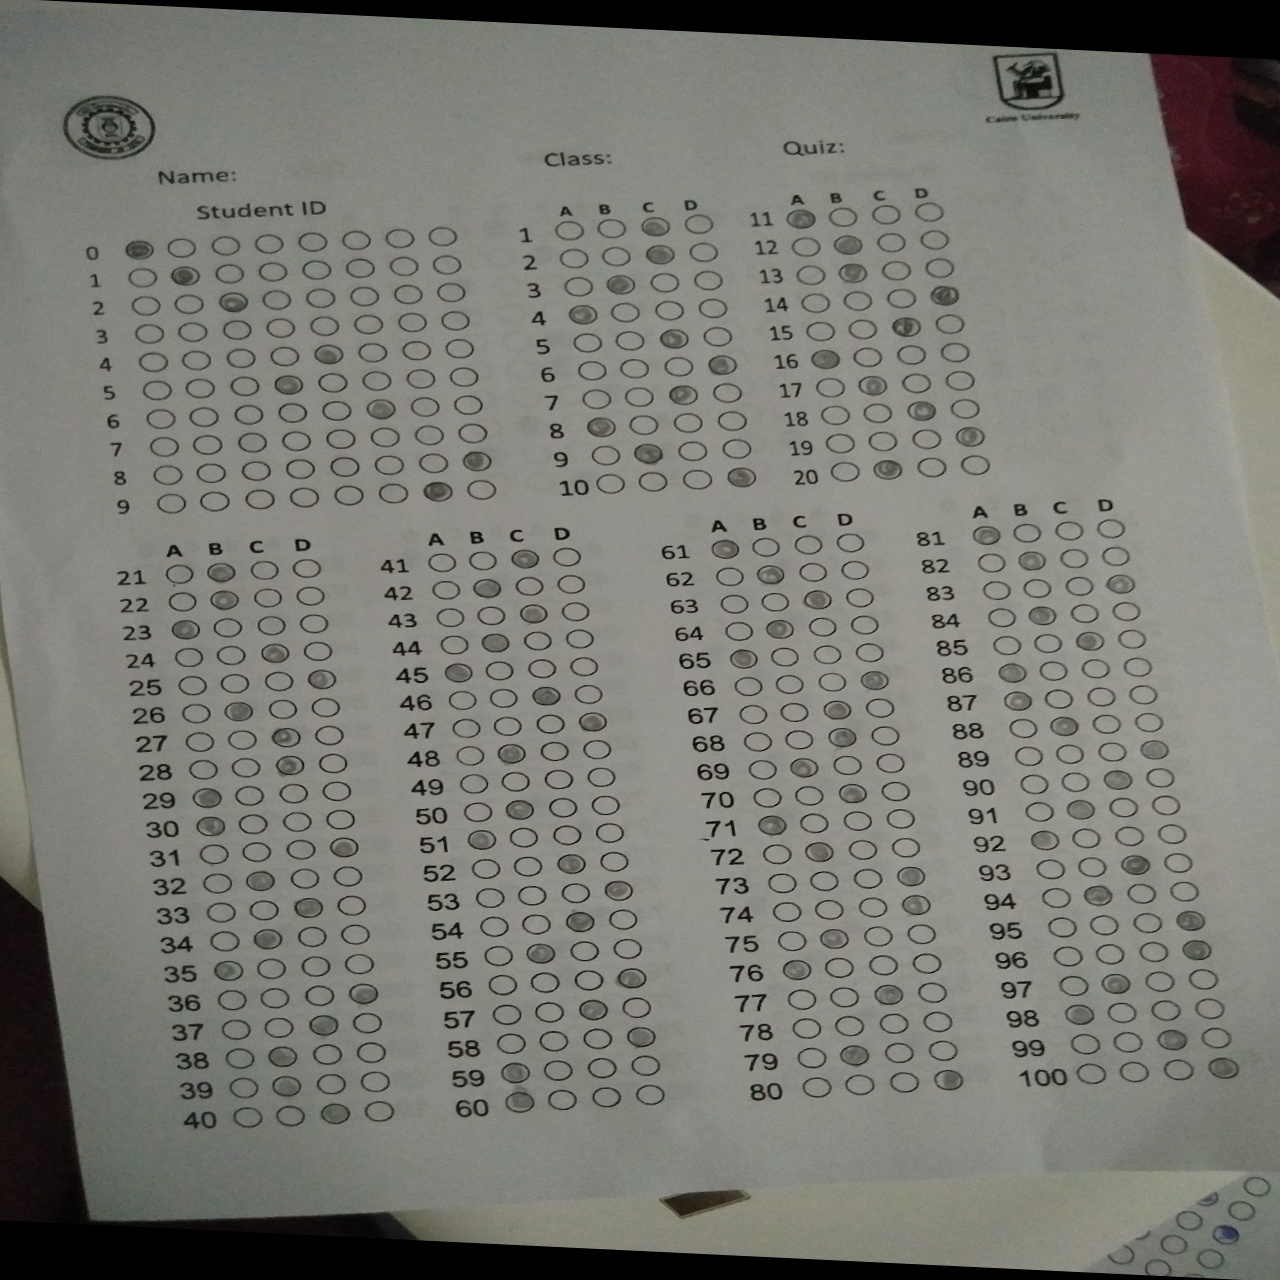not-c: (402, 366, 438, 392), (224, 346, 260, 372), (395, 309, 431, 335), (217, 318, 253, 343), (347, 284, 383, 309), (299, 257, 335, 282), (294, 230, 331, 256), (253, 230, 290, 256), (325, 454, 361, 479), (449, 392, 485, 417), (142, 406, 178, 431), (699, 324, 735, 349), (931, 311, 967, 336), (959, 452, 995, 478), (647, 270, 683, 295), (878, 257, 914, 282), (872, 229, 908, 254), (869, 202, 905, 227), (268, 343, 304, 369), (349, 312, 384, 338), (163, 234, 198, 260), (626, 413, 661, 438), (322, 425, 358, 451), (193, 459, 229, 485), (455, 420, 490, 445), (274, 399, 309, 424), (241, 486, 277, 512), (147, 434, 182, 459), (574, 358, 610, 383), (545, 1085, 580, 1111), (313, 370, 349, 395), (226, 374, 263, 399), (399, 336, 435, 361), (128, 292, 164, 316), (338, 229, 374, 253), (675, 440, 712, 464), (445, 365, 482, 389), (406, 394, 442, 418), (318, 399, 354, 423), (374, 481, 410, 505), (195, 489, 231, 513), (618, 355, 654, 380), (612, 328, 648, 353), (695, 295, 731, 320), (651, 298, 687, 322), (605, 299, 641, 324), (817, 403, 853, 428), (938, 340, 974, 365), (910, 427, 946, 451), (821, 431, 857, 456), (714, 408, 750, 433), (688, 267, 724, 292), (825, 204, 862, 229), (678, 467, 712, 492), (772, 672, 806, 697), (474, 602, 508, 628), (542, 765, 576, 791), (764, 870, 798, 896), (176, 672, 210, 697), (172, 644, 206, 669), (341, 951, 375, 976), (297, 924, 331, 949), (136, 350, 171, 375), (356, 340, 392, 365), (261, 314, 297, 339), (561, 274, 597, 299), (302, 285, 338, 309), (170, 292, 205, 316), (124, 264, 159, 288), (209, 260, 244, 285), (342, 256, 377, 280), (594, 216, 629, 240), (423, 224, 458, 248), (238, 458, 273, 483), (279, 428, 314, 452), (190, 433, 225, 457), (185, 404, 220, 429), (331, 483, 366, 508), (579, 387, 614, 411), (710, 380, 745, 404), (571, 329, 606, 354), (884, 285, 919, 309), (798, 291, 833, 315), (803, 319, 838, 343), (858, 401, 893, 425), (812, 374, 847, 399), (850, 345, 885, 369), (894, 342, 930, 367), (942, 368, 978, 393), (948, 396, 983, 421), (864, 428, 899, 452), (914, 456, 949, 481), (621, 384, 656, 409), (549, 544, 584, 568), (837, 557, 872, 581), (921, 256, 956, 280), (583, 1055, 618, 1080), (536, 1027, 571, 1051), (492, 1030, 527, 1055), (581, 1026, 617, 1050), (531, 1000, 566, 1024), (489, 1002, 524, 1027), (485, 972, 520, 996), (588, 1084, 624, 1109), (442, 338, 478, 361), (436, 309, 472, 333), (173, 320, 210, 343), (132, 322, 169, 346), (597, 245, 633, 268), (386, 256, 422, 279), (557, 246, 593, 270), (380, 226, 416, 250), (720, 437, 756, 461), (230, 402, 266, 425), (287, 486, 324, 510), (155, 491, 191, 515), (150, 463, 186, 486), (661, 354, 697, 377), (899, 372, 935, 395), (824, 459, 860, 483), (915, 229, 952, 252), (911, 200, 947, 224), (1030, 629, 1063, 655), (292, 583, 325, 608), (776, 699, 809, 724), (1051, 942, 1084, 968), (812, 897, 845, 922), (799, 1074, 832, 1099), (1107, 999, 1139, 1024), (515, 881, 547, 907), (142, 377, 176, 402), (687, 239, 721, 264), (635, 469, 669, 493), (846, 316, 880, 341), (758, 588, 792, 613), (719, 591, 753, 615), (532, 712, 566, 736), (489, 712, 523, 736), (485, 686, 519, 710), (769, 645, 803, 669), (481, 658, 515, 682), (297, 610, 331, 634), (431, 604, 465, 628), (828, 753, 862, 777), (583, 763, 617, 788), (782, 726, 816, 750), (1057, 973, 1091, 998), (1092, 941, 1126, 966), (1046, 914, 1080, 939), (1160, 850, 1194, 874), (1155, 822, 1189, 846), (611, 937, 645, 961), (881, 1041, 915, 1065), (592, 819, 626, 844), (888, 835, 922, 859), (883, 806, 917, 831), (840, 808, 874, 832), (1160, 1056, 1194, 1081), (1116, 1058, 1150, 1083), (324, 808, 358, 832), (239, 838, 273, 863), (197, 840, 231, 865), (319, 778, 353, 803), (315, 750, 349, 775), (358, 1068, 392, 1092), (309, 1041, 343, 1065), (215, 987, 248, 1012), (200, 870, 234, 894), (542, 1057, 576, 1082), (635, 1081, 669, 1105), (629, 1051, 663, 1076), (620, 994, 654, 1019), (573, 967, 607, 992), (481, 942, 515, 967), (414, 450, 449, 474), (360, 369, 395, 393), (433, 279, 468, 302), (390, 282, 425, 306), (428, 253, 463, 277), (682, 212, 717, 236), (206, 233, 241, 257), (372, 452, 407, 476), (587, 443, 622, 467), (463, 477, 498, 501), (594, 471, 629, 495), (234, 430, 270, 454), (839, 288, 874, 312), (670, 410, 706, 434), (788, 234, 823, 258), (278, 781, 309, 806), (551, 219, 587, 241), (712, 564, 744, 588), (1036, 659, 1069, 683), (1020, 576, 1053, 600), (980, 578, 1013, 602), (251, 585, 284, 610), (247, 558, 280, 583), (723, 619, 756, 644), (290, 556, 322, 580), (436, 632, 469, 656), (429, 577, 462, 601), (425, 550, 458, 574), (538, 737, 571, 762), (1034, 857, 1067, 881), (1076, 856, 1109, 880), (1149, 794, 1182, 818), (1108, 795, 1141, 819), (1085, 685, 1118, 709), (1042, 686, 1075, 710), (568, 938, 601, 962), (877, 1010, 910, 1035), (822, 954, 855, 979), (862, 924, 894, 948), (760, 842, 792, 866), (280, 809, 313, 833), (225, 726, 258, 750), (217, 670, 250, 695), (361, 1098, 394, 1123), (258, 985, 291, 1009), (183, 376, 217, 400), (179, 349, 213, 373), (306, 314, 340, 338), (259, 287, 293, 311), (368, 425, 402, 449), (411, 422, 445, 445), (282, 457, 316, 481), (794, 263, 828, 286), (989, 634, 1023, 658), (790, 532, 824, 556), (983, 606, 1017, 629), (833, 530, 867, 553), (448, 716, 482, 740), (444, 688, 478, 712), (253, 613, 287, 636), (816, 669, 850, 693), (731, 674, 765, 697), (853, 640, 887, 663), (805, 614, 839, 638), (872, 750, 906, 774), (1087, 913, 1121, 937), (1039, 885, 1073, 908), (1017, 771, 1051, 795), (1006, 716, 1040, 740), (794, 1046, 828, 1069), (784, 987, 818, 1010), (806, 870, 840, 893), (597, 849, 631, 872), (587, 794, 621, 817), (549, 823, 583, 846), (547, 795, 581, 818), (845, 837, 879, 860), (1068, 1032, 1102, 1055), (1110, 1029, 1144, 1053), (774, 930, 808, 953), (506, 825, 540, 849), (461, 799, 495, 823), (499, 770, 533, 794), (309, 695, 343, 719), (213, 644, 247, 667), (161, 561, 195, 585), (273, 1103, 307, 1126), (226, 1076, 260, 1099), (222, 1046, 256, 1069), (261, 1015, 295, 1039), (350, 1012, 384, 1035), (297, 954, 331, 978), (474, 885, 508, 908), (338, 922, 372, 946), (247, 898, 281, 921), (527, 971, 561, 994), (581, 736, 613, 761), (1114, 823, 1145, 847), (1096, 738, 1128, 763), (1091, 712, 1123, 736), (520, 912, 552, 937), (355, 1040, 387, 1064), (511, 855, 543, 879), (469, 857, 501, 881), (769, 899, 802, 922), (974, 551, 1007, 574), (843, 585, 876, 608), (1080, 656, 1112, 680), (1115, 627, 1148, 651), (1099, 544, 1132, 567), (1058, 545, 1091, 568), (810, 642, 843, 666), (1094, 516, 1126, 539), (1009, 520, 1042, 544), (749, 535, 782, 558), (1126, 682, 1159, 706), (864, 695, 897, 719), (849, 613, 881, 636), (525, 656, 558, 680), (567, 654, 600, 678), (561, 627, 594, 651), (553, 572, 586, 595), (233, 783, 266, 806), (465, 547, 498, 571), (744, 757, 777, 781), (1136, 940, 1169, 964), (1126, 881, 1159, 905), (1167, 879, 1200, 903), (1022, 799, 1055, 823), (1058, 770, 1091, 794), (1053, 742, 1085, 765), (1012, 743, 1044, 767), (843, 1073, 876, 1096), (926, 1039, 959, 1062), (832, 1013, 865, 1036), (915, 980, 948, 1003), (826, 985, 859, 1008), (908, 951, 941, 974), (865, 953, 898, 976), (904, 921, 937, 945), (559, 881, 592, 905), (878, 778, 911, 802), (790, 783, 823, 806), (1199, 1026, 1232, 1049), (1149, 998, 1182, 1021), (229, 756, 261, 779), (207, 930, 240, 953), (179, 701, 212, 724), (165, 588, 198, 612), (478, 914, 511, 938), (230, 1105, 263, 1129), (314, 1071, 347, 1095), (219, 1017, 252, 1041), (302, 983, 335, 1007), (335, 893, 368, 917), (331, 864, 363, 887), (796, 560, 830, 583), (452, 743, 486, 765), (1068, 826, 1102, 849), (789, 1016, 823, 1039), (855, 896, 888, 918), (234, 812, 268, 835), (311, 723, 345, 745), (263, 669, 297, 692), (1111, 599, 1143, 622), (1069, 601, 1101, 625), (1063, 573, 1095, 597), (302, 639, 334, 662), (742, 729, 774, 753), (1187, 967, 1219, 990), (1132, 910, 1164, 933), (1144, 765, 1176, 789), (1133, 710, 1165, 734), (796, 811, 828, 835), (1075, 1061, 1107, 1084), (1193, 995, 1225, 1019), (285, 838, 316, 862), (183, 729, 215, 753), (1122, 655, 1155, 678), (571, 683, 604, 706), (520, 629, 553, 652), (512, 574, 545, 597), (867, 724, 900, 747), (736, 703, 769, 726), (1143, 969, 1176, 992), (887, 1070, 920, 1092), (606, 908, 639, 931), (751, 787, 784, 809), (186, 757, 219, 779), (456, 772, 489, 795), (266, 697, 299, 720), (211, 617, 244, 639), (256, 956, 288, 979), (203, 900, 236, 922), (290, 867, 322, 890), (1054, 519, 1085, 542), (559, 600, 591, 622), (921, 1010, 953, 1033), (851, 866, 883, 888)
taken-c: (122, 237, 157, 263), (1099, 971, 1133, 996), (806, 346, 840, 372), (708, 536, 742, 561), (273, 753, 308, 777), (968, 523, 1003, 547), (1180, 937, 1213, 962), (243, 869, 277, 893), (327, 835, 361, 859), (1047, 714, 1081, 738), (1101, 767, 1135, 791), (836, 781, 870, 805), (892, 864, 926, 888), (168, 617, 202, 641), (927, 282, 961, 307), (1015, 549, 1049, 573), (1024, 602, 1058, 627), (753, 561, 787, 586), (602, 272, 636, 297), (644, 241, 678, 266), (459, 449, 493, 474), (271, 373, 305, 397), (216, 290, 250, 314), (166, 264, 200, 288), (346, 981, 381, 1005), (1001, 688, 1036, 712), (636, 215, 672, 238), (563, 910, 595, 934), (614, 965, 647, 989), (933, 1067, 966, 1091), (306, 1013, 339, 1037), (211, 958, 244, 982), (478, 629, 511, 654), (576, 709, 608, 734), (222, 699, 254, 723), (465, 828, 498, 852), (632, 441, 665, 465), (602, 878, 636, 901), (778, 958, 812, 981), (838, 1043, 872, 1067), (318, 1101, 352, 1124), (268, 1074, 302, 1097), (291, 894, 325, 918), (787, 756, 821, 779), (755, 813, 789, 837), (1063, 797, 1097, 821), (899, 893, 933, 917), (1028, 828, 1062, 851), (1081, 884, 1115, 907), (1063, 1003, 1097, 1027), (1155, 1028, 1189, 1051), (994, 661, 1028, 685), (729, 647, 763, 670), (821, 696, 855, 720), (825, 723, 859, 747), (305, 667, 339, 690), (440, 661, 474, 685), (268, 724, 302, 748), (493, 741, 527, 764), (193, 813, 227, 837), (503, 797, 537, 821), (831, 233, 865, 257), (871, 458, 905, 482), (954, 424, 988, 448), (1073, 628, 1107, 652), (801, 588, 835, 612), (763, 617, 797, 640), (655, 327, 689, 350), (704, 353, 738, 376), (622, 1024, 658, 1047), (905, 399, 940, 421), (498, 1061, 531, 1084), (1137, 738, 1170, 762), (872, 981, 905, 1005), (818, 927, 851, 951), (1175, 908, 1207, 932), (1207, 1056, 1240, 1080), (470, 576, 503, 599), (529, 683, 561, 707), (584, 415, 617, 438), (857, 374, 890, 397), (1104, 572, 1137, 595), (565, 302, 598, 326), (524, 941, 558, 964), (265, 1044, 299, 1067), (248, 927, 282, 949), (858, 669, 892, 692), (204, 560, 238, 583), (206, 588, 240, 611), (258, 641, 292, 663), (190, 787, 224, 809), (553, 852, 587, 874), (784, 206, 818, 229), (888, 315, 922, 338), (726, 465, 760, 488), (667, 383, 701, 406), (503, 1091, 536, 1114), (578, 998, 611, 1020), (802, 839, 835, 862), (1119, 853, 1152, 876), (509, 547, 542, 570), (518, 602, 551, 625), (836, 261, 869, 284), (420, 479, 452, 502), (365, 399, 397, 421), (313, 342, 346, 365)
